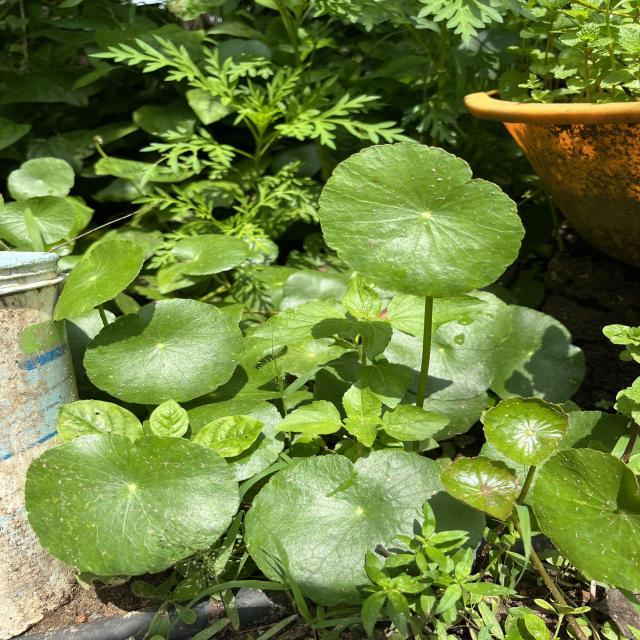Bacopa monnieri: (319, 138, 532, 299), (22, 430, 244, 578), (81, 296, 246, 406), (528, 446, 640, 595), (51, 235, 148, 324), (481, 394, 572, 469), (436, 452, 522, 524)
